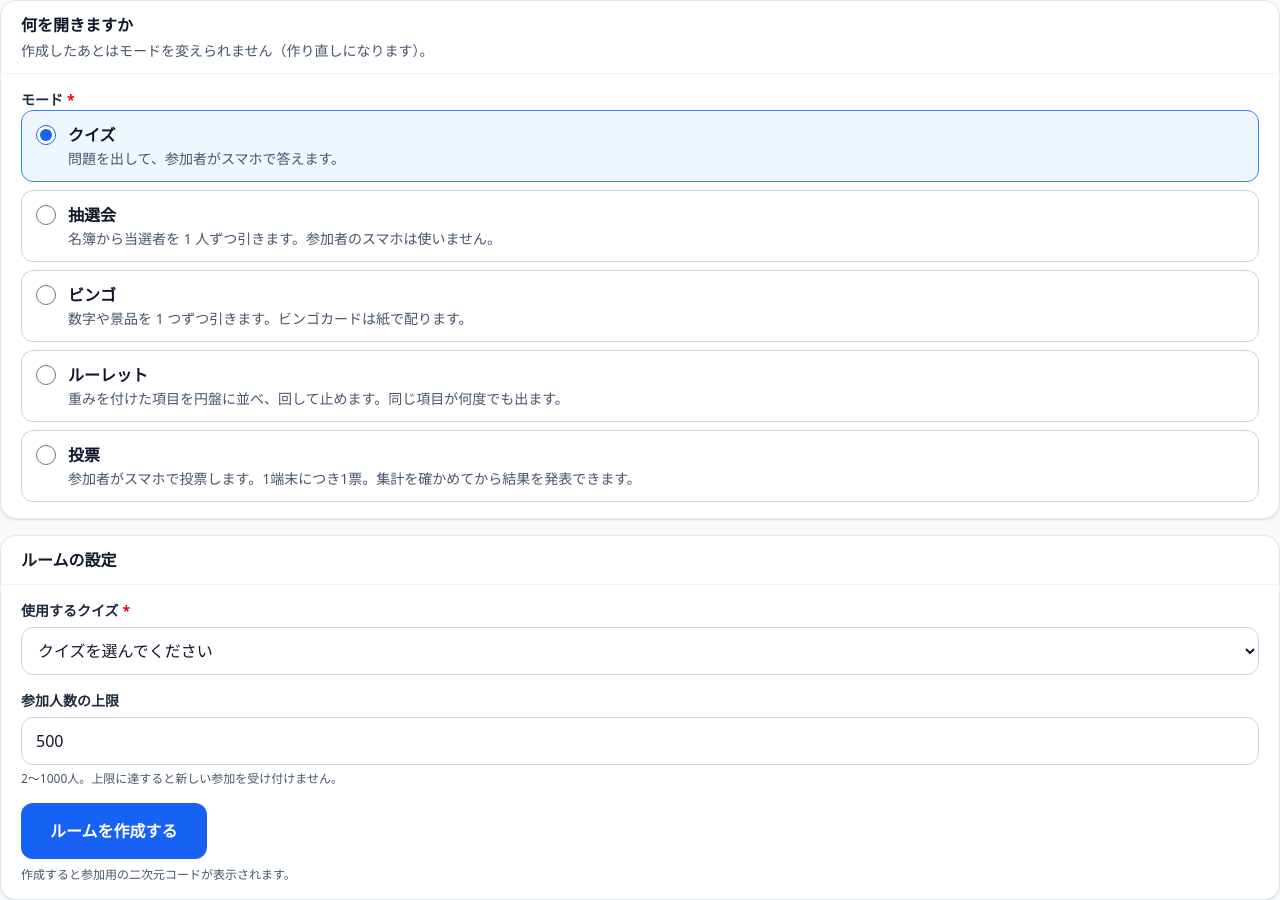
Scenario: ルーム作成のモード選び › 抽選会に切り替えると参加人数の上限を出さない
This screenshot has width=1280, height=900.
Expected: the field labelled "参加人数の上限" is shown, [21, 717, 1259, 765]
Click the radio button labelled "抽選会 名簿から当選者を 1 人ずつ引きます。参加者のスマホは使いません。" at (46, 215), box [36, 205, 56, 225]
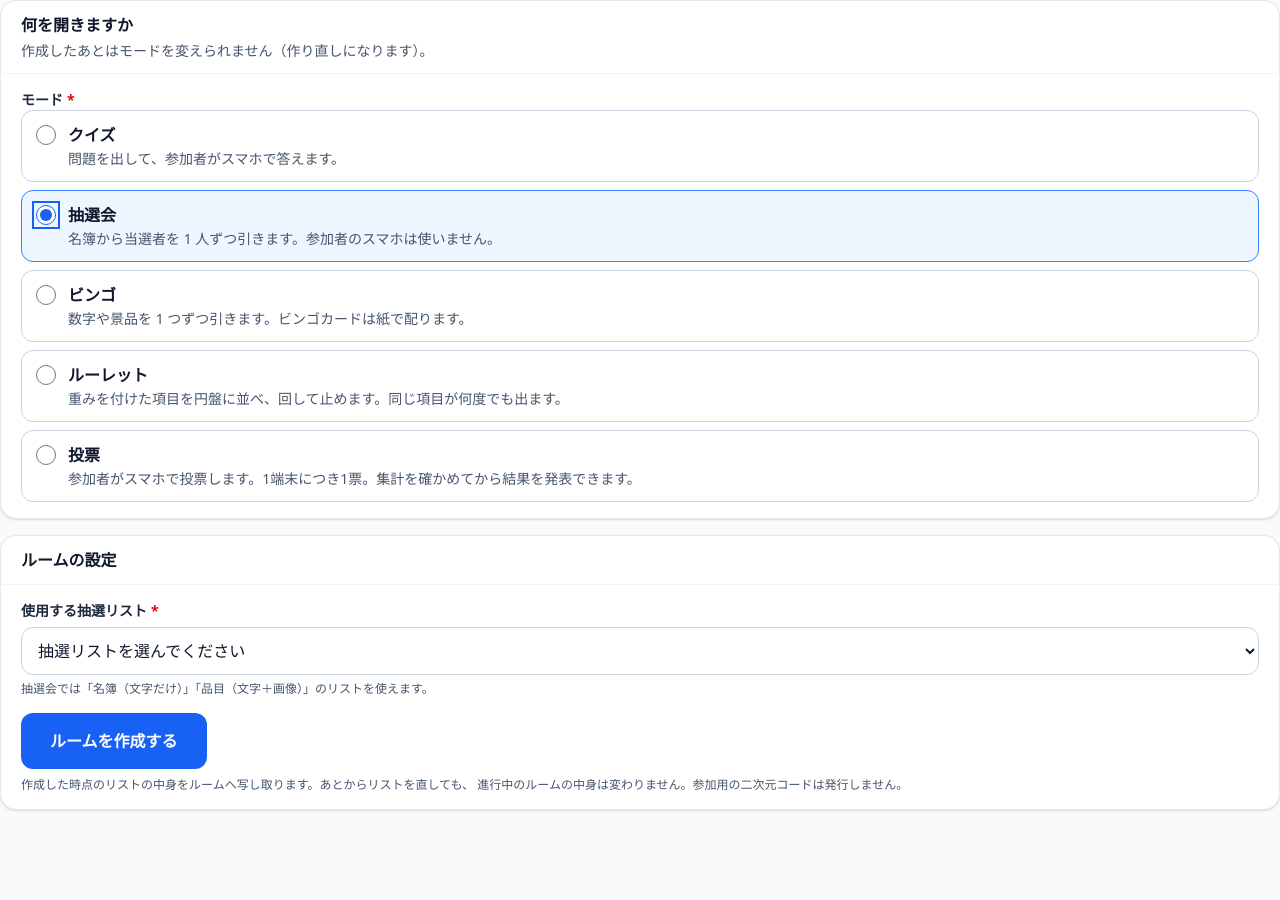
Expected: the dropdown labelled "使用する抽選リスト*" is shown, [21, 627, 1259, 675]
Expected: the label labelled "参加人数の上限" is gone
